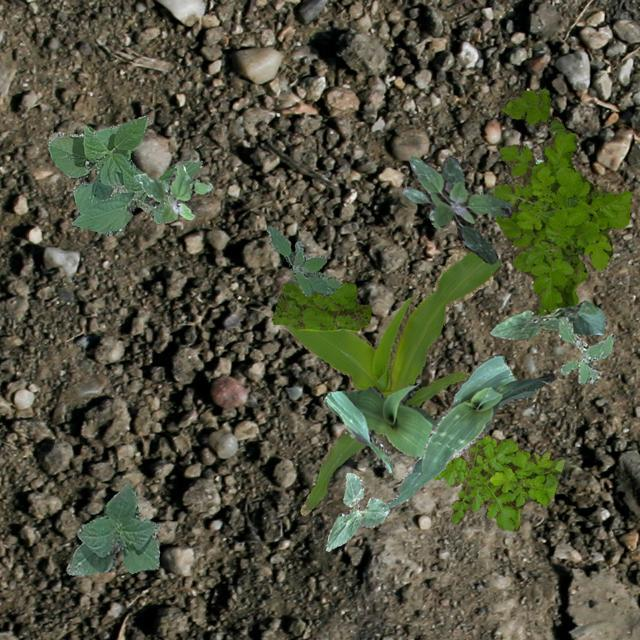crop: (288, 246, 500, 514), (386, 352, 554, 510), (48, 114, 200, 234), (322, 382, 434, 472), (64, 482, 158, 574), (324, 472, 390, 550), (488, 300, 606, 340), (534, 158, 542, 162)
weed: (490, 88, 630, 314), (432, 430, 564, 530), (400, 156, 510, 264), (266, 224, 342, 296), (270, 278, 370, 332), (132, 162, 212, 222), (556, 314, 614, 384)
